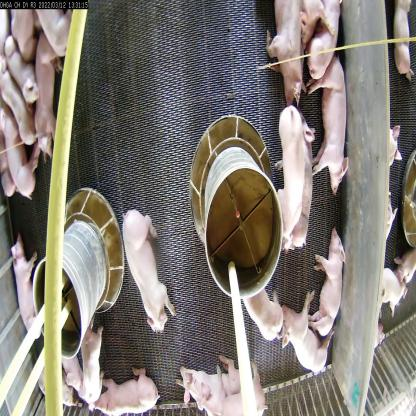Pig: (124, 188, 172, 336), (311, 51, 353, 186), (262, 1, 305, 108), (275, 290, 330, 372), (168, 345, 240, 406), (231, 267, 286, 343), (289, 115, 316, 262), (312, 231, 348, 330), (278, 105, 304, 240), (32, 42, 61, 160), (96, 368, 167, 415), (67, 313, 103, 401), (306, 1, 342, 83), (2, 42, 40, 118), (0, 108, 33, 194), (201, 376, 273, 415), (12, 230, 44, 308), (0, 70, 28, 140)
